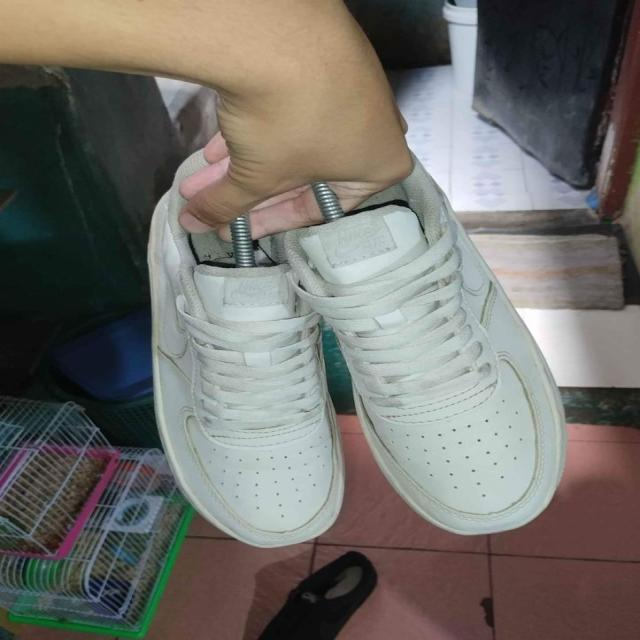nike fake air force: (282, 133, 569, 536), (150, 158, 352, 548)
